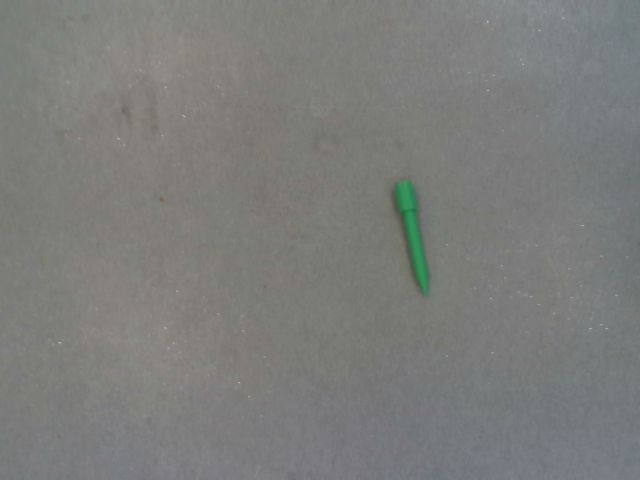Probe: (388, 176, 435, 301)
